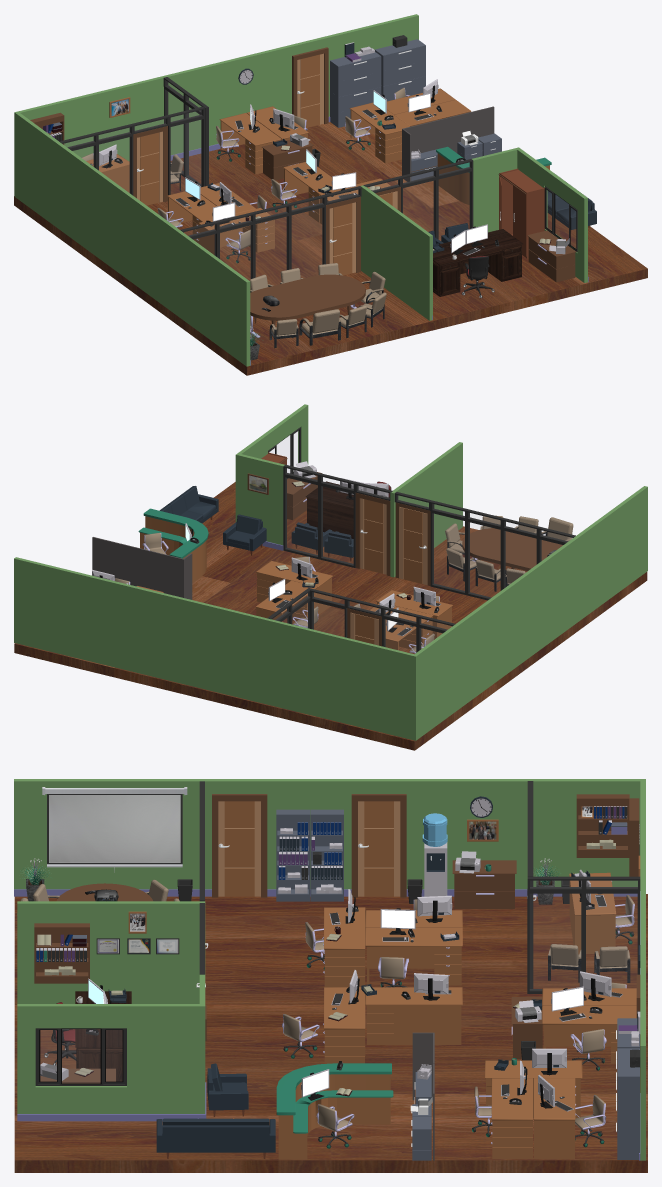
The model's file is isometric_office.glb.
3 views of the same model, one above another, from view 1: azimuth 30°, elevation 25°; view 2: azimuth 150°, elevation 25°; view 3: azimuth 270°, elevation 25° (orthographic). The views are drawn at different scales.
Visible parts, largest first — view 1: Room_1, Floor_2, Room.002_460, Room.001_504, Meeting table_490, simple_desk.000_586, wardrobe_507, Door.001_401, Door.002_472, Door.010_22, Window_510, Reception_4 (+31 smaller); view 2: Room_1, Floor_2, Room.001_504, Room.002_460, Reception_4, Meeting table_490, Door.002_472, Door_600, Plane.006_5, simple_desk.000_586, Small wall_7, couch1_207 (+16 smaller); view 3: Floor_2, Room_1, Room.001_504, Room.002_460, Projector Screen_497, Reception_4, Window_510, couch1_207, Door.011_27, Door.009_17, Desk.010_247, Desk.016_320 (+56 smaller).
Part boxes in pixels (x1,y1,x2,y2): Room_1: (14, 14, 418, 366); Floor_2: (14, 122, 647, 375); Room.002_460: (360, 185, 432, 320); Room.001_504: (472, 147, 587, 282); Meeting table_490: (250, 274, 365, 320); simple_desk.000_586: (433, 229, 523, 296); wardrobe_507: (498, 168, 544, 258); Door.001_401: (137, 131, 163, 205); Door.002_472: (329, 202, 356, 275); Door.010_22: (297, 53, 323, 127); Window_510: (544, 186, 577, 252); Reception_4: (436, 146, 551, 204); Room_1: (14, 486, 647, 740); Floor_2: (14, 482, 647, 750); Room.001_504: (235, 404, 308, 545); Room.002_460: (390, 442, 462, 577); Reception_4: (138, 508, 208, 583); Meeting table_490: (462, 528, 562, 570); Door.002_472: (399, 507, 427, 585); Door_600: (360, 498, 386, 574); Plane.006_5: (137, 548, 182, 597); simple_desk.000_586: (305, 481, 389, 538); Small wall_7: (92, 537, 137, 586); couch1_207: (159, 486, 218, 523); Floor_2: (14, 894, 647, 1172); Room_1: (14, 779, 645, 1160); Room.001_504: (17, 974, 205, 1113); Room.002_460: (17, 901, 205, 1003); Projector Screen_497: (42, 787, 187, 872); Reception_4: (276, 1063, 393, 1159); Window_510: (35, 1028, 126, 1085); couch1_207: (156, 1118, 275, 1158); Door.011_27: (218, 801, 260, 896); Door.009_17: (358, 801, 400, 896); Desk.010_247: (365, 987, 462, 1044); Desk.016_320: (534, 1078, 575, 1158).
Size of what is drawn, in the model's own units: 10.1 by 2.25 by 10.12.
47 materials, 18 textured.
